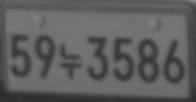3: (86, 36, 108, 80)
5: (9, 34, 31, 77), (113, 36, 134, 80)
6: (162, 39, 185, 84)
8: (137, 39, 159, 82)
9: (34, 35, 56, 77)
누: (59, 43, 82, 80)
